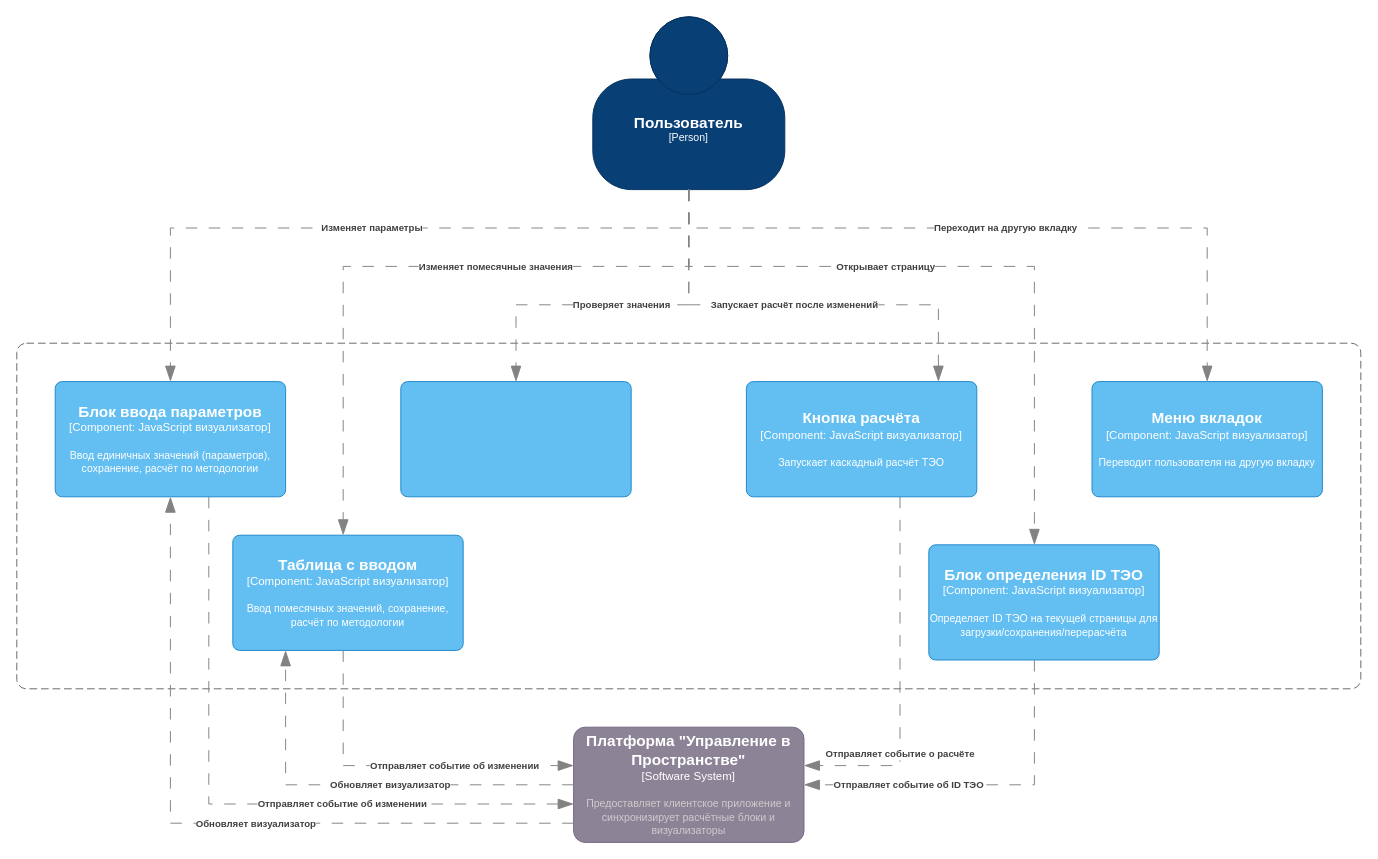
Image size: 1378x859. Some labels were removed from this diagram. Here are the shapes that lost their labels. From the top down, the box of each, then its label:
(400, 381, 631, 497): Таблица без ввода [Component: Визуализатор таблицы] Вывод помесячных значений
(16, 342, 1361, 689): Веб-приложение [Container]
